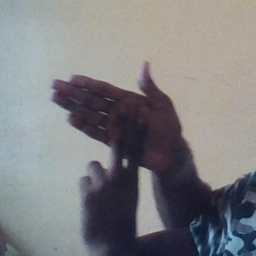N: (45, 55, 185, 213)
